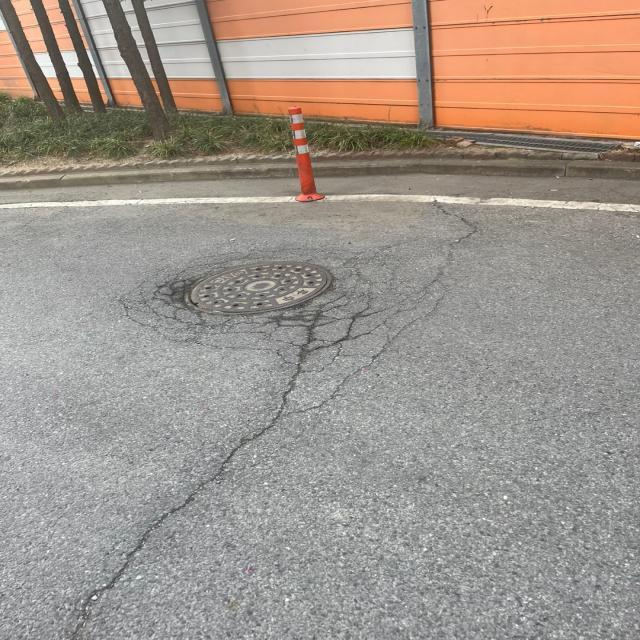manhole: (188, 262, 331, 313)
